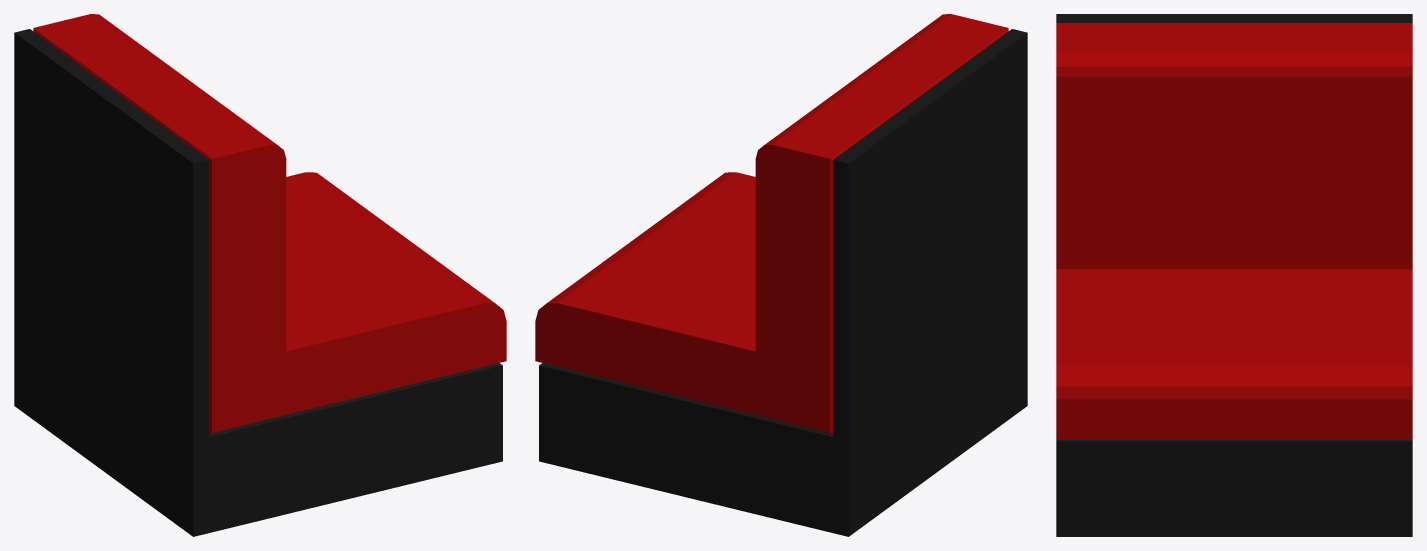
File: sofa1X1.fbx
The picture shows the model from 3 angles, left to right: view 1: azimuth 30°, elevation 25°; view 2: azimuth 150°, elevation 25°; view 3: azimuth 270°, elevation 25°; orthographic projection.
Visible parts, largest first — view 1: sofa1X1; view 2: sofa1X1; view 3: sofa1X1.
Part boxes in pixels (<box>): sofa1X1: <box>14,14,506,536</box>; sofa1X1: <box>535,14,1027,536</box>; sofa1X1: <box>1056,14,1412,536</box>.
Size of the model in its own units: 1011 by 1152 by 1000.
